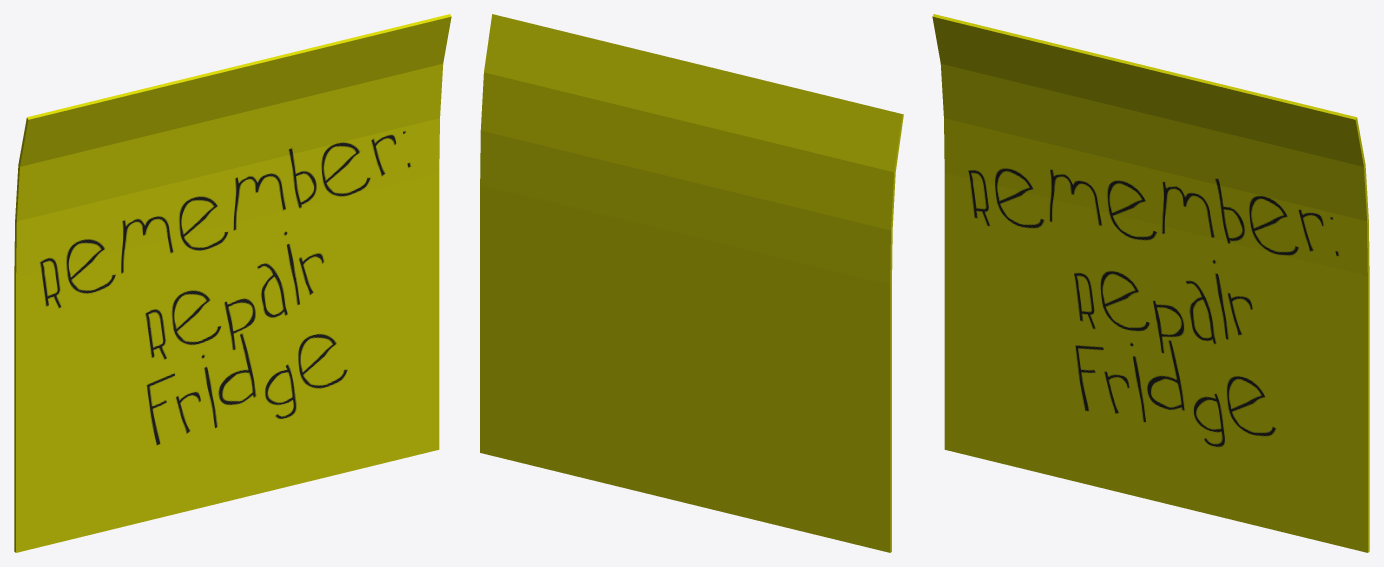
Rendered from StickyNoteTemporary.fbx.
3 renders of one model, left to right at view 1: azimuth 30°, elevation 25°; view 2: azimuth 150°, elevation 25°; view 3: azimuth 330°, elevation 25°, orthographic. The views are drawn at different scales.
Visible parts, largest first — view 1: Cube; view 2: Cube; view 3: Cube.
Part boxes in pixels (x1,y1,x2,y2): Cube: [14, 14, 451, 552]; Cube: [480, 14, 903, 552]; Cube: [932, 14, 1369, 552].
Bounding box in the file's own units: 200 × 200 × 11.49.
Materials: 1 (1 with a texture image).
